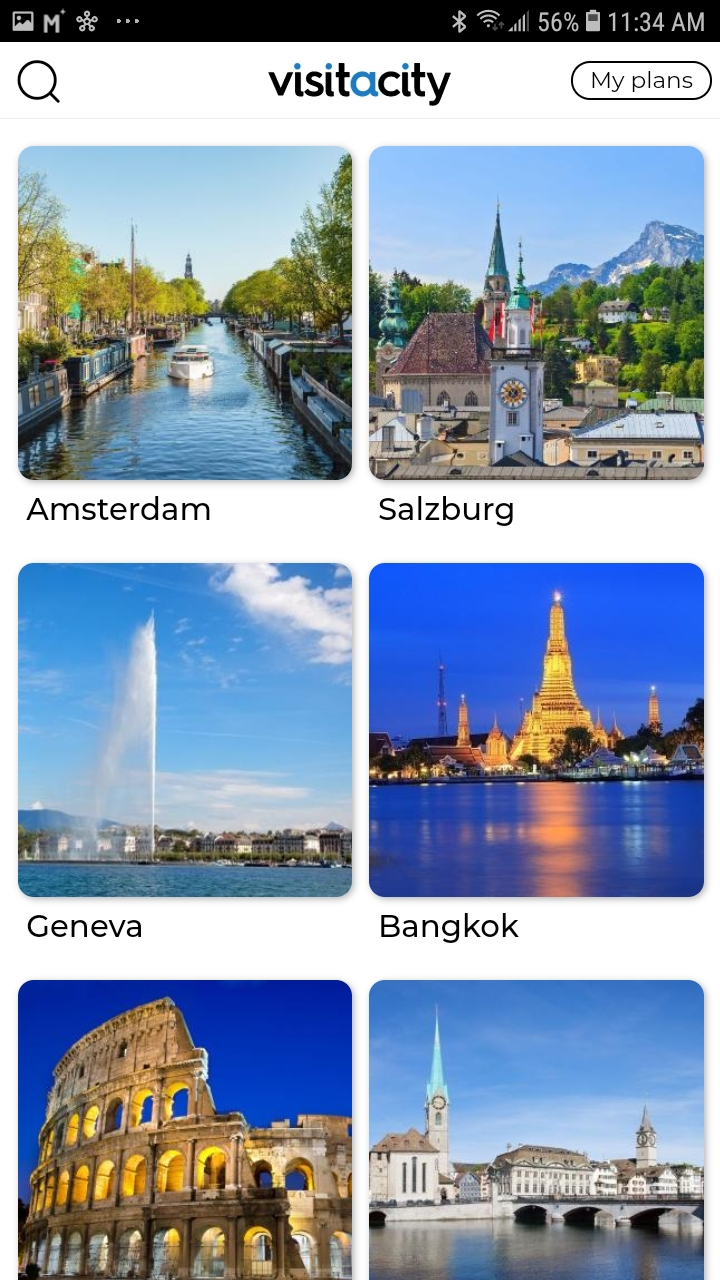Icon: (17, 60, 61, 104)
Image: (369, 563, 705, 898), (368, 146, 704, 481), (18, 563, 353, 898), (19, 146, 353, 481), (368, 980, 704, 1280), (18, 980, 353, 1280), (268, 63, 452, 108)
Text: (27, 495, 211, 521), (381, 913, 520, 944), (379, 496, 514, 527), (28, 914, 143, 938)
TextButton: (571, 61, 713, 101)
UpperTaskBar: (1, 1, 720, 43)
